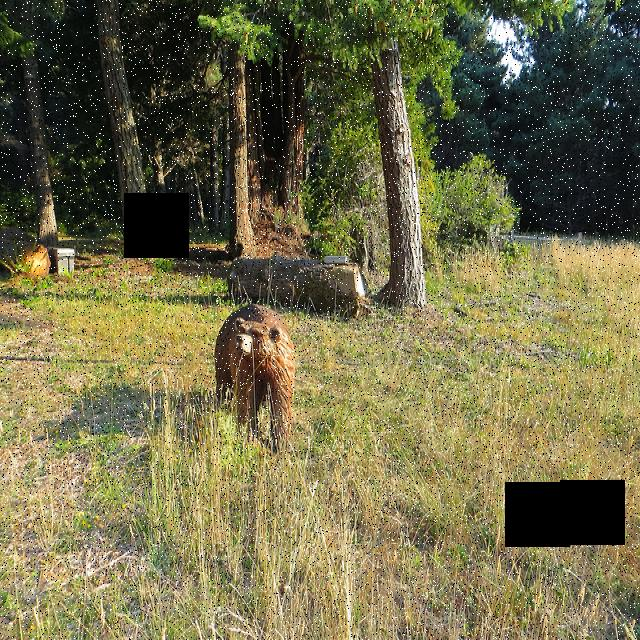Bear: (205, 294, 300, 437)
